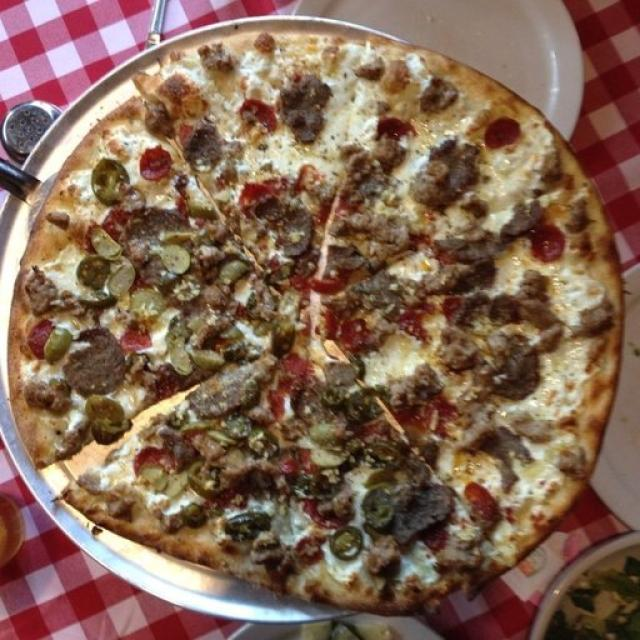Beef: (443, 326, 533, 394), (196, 362, 276, 416), (341, 143, 405, 209), (70, 335, 136, 396), (468, 426, 534, 484), (520, 275, 566, 356), (422, 139, 469, 206), (396, 488, 456, 540), (282, 79, 328, 143), (340, 210, 411, 244), (388, 364, 440, 408), (425, 264, 492, 290), (254, 537, 295, 579), (224, 457, 284, 485), (332, 247, 390, 274), (138, 96, 176, 137), (466, 293, 520, 321), (187, 128, 221, 172), (28, 379, 73, 411), (282, 212, 312, 258), (504, 200, 540, 238), (27, 266, 56, 313), (136, 207, 188, 232), (360, 271, 400, 303), (437, 235, 488, 260), (423, 78, 455, 114), (364, 310, 397, 344), (321, 493, 357, 523), (201, 45, 236, 75), (295, 388, 329, 418), (576, 309, 614, 335), (320, 363, 358, 386), (90, 417, 133, 435), (196, 434, 220, 463), (355, 59, 383, 80), (81, 467, 107, 488), (409, 465, 433, 484), (112, 500, 135, 518), (205, 288, 224, 304)
Jalapenoes: (92, 159, 125, 198), (78, 258, 110, 291), (333, 525, 362, 561), (194, 463, 223, 497), (364, 490, 391, 526), (44, 328, 71, 360), (226, 417, 251, 440)
Pepperoni: (240, 99, 277, 133), (469, 484, 500, 523), (140, 146, 170, 182), (319, 315, 356, 344), (487, 117, 519, 150), (533, 224, 565, 256), (376, 120, 416, 142), (138, 446, 169, 469), (298, 537, 324, 564), (122, 326, 150, 350), (28, 319, 45, 358), (242, 177, 270, 200), (314, 278, 349, 293)
Pizza: (8, 34, 631, 606)
